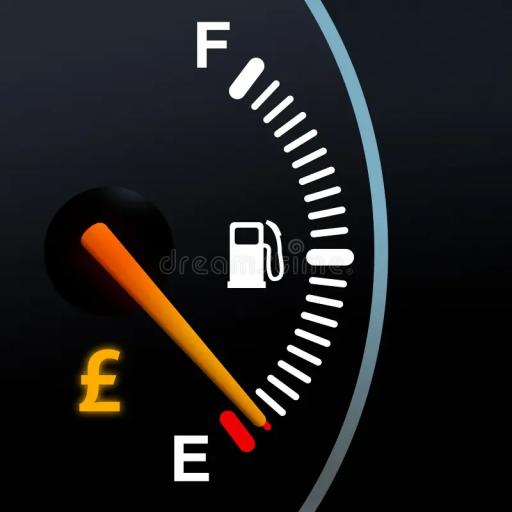empty: (168, 430, 216, 488)
fuel_icon: (224, 215, 294, 295)
full: (190, 15, 232, 73)
guage_area: (0, 0, 438, 512)
needle_center: (38, 174, 191, 334)
needle_tip: (222, 373, 273, 428)
